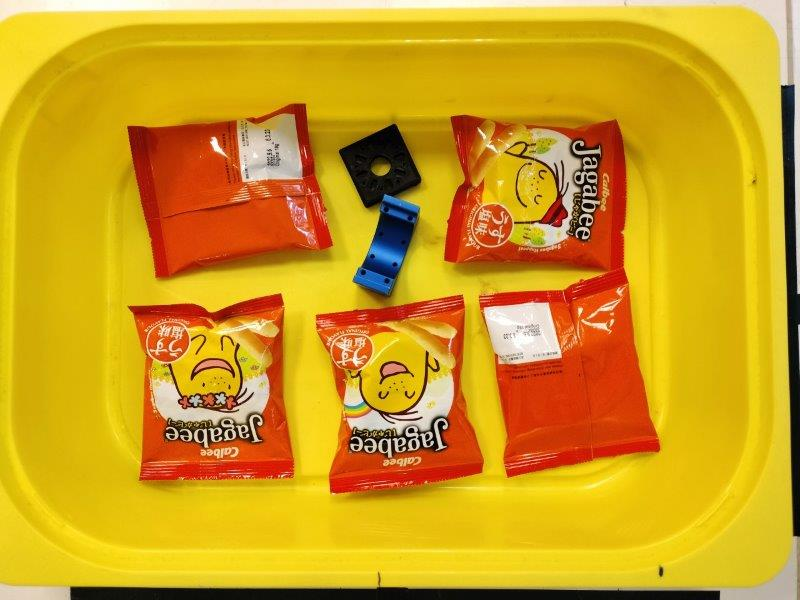Jagabee: (480, 270, 660, 477), (128, 103, 333, 277), (316, 296, 485, 495), (127, 295, 294, 480), (445, 114, 630, 272)
